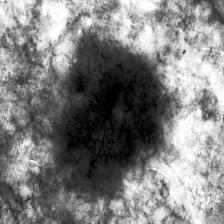Benign Marking or Mole: (60, 38, 162, 184)
